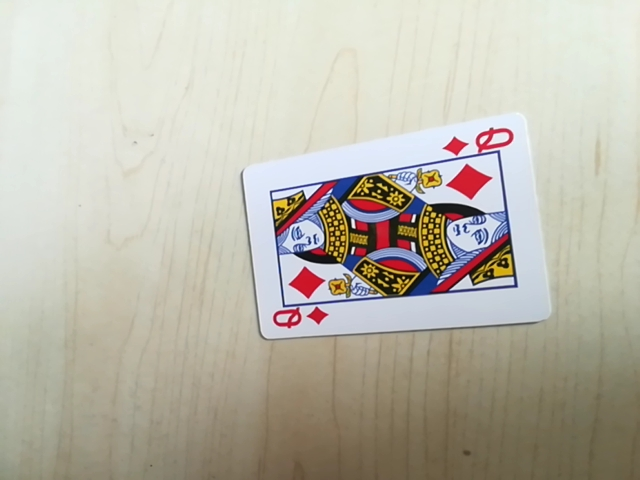fk q: (442, 123, 520, 159), (265, 303, 330, 336)
